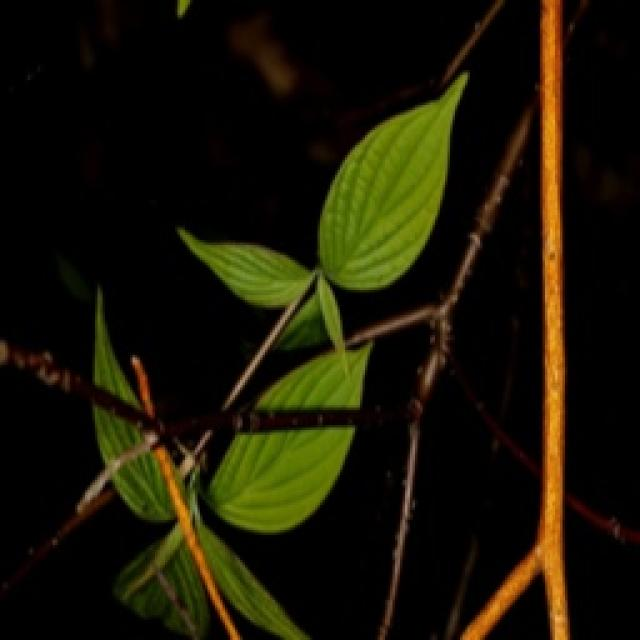Golden_canker: (471, 3, 616, 640), (95, 350, 283, 640)
